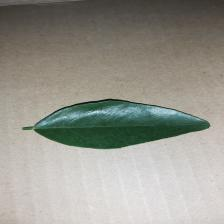healthy: (26, 104, 205, 147)
